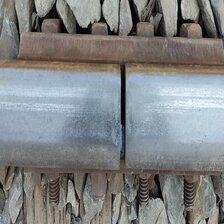railway-gap: (70, 55, 176, 173)
